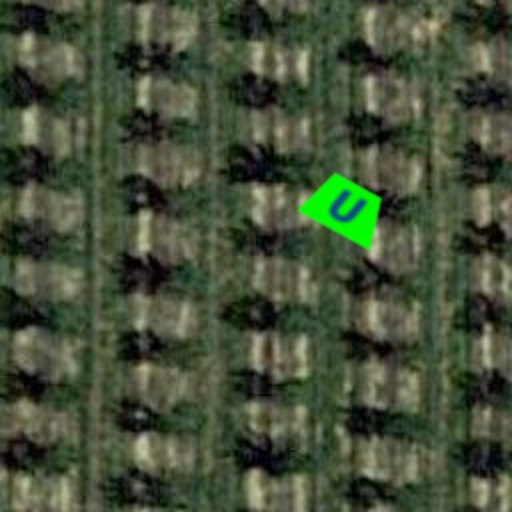trapezoid: (288, 150, 404, 266)
